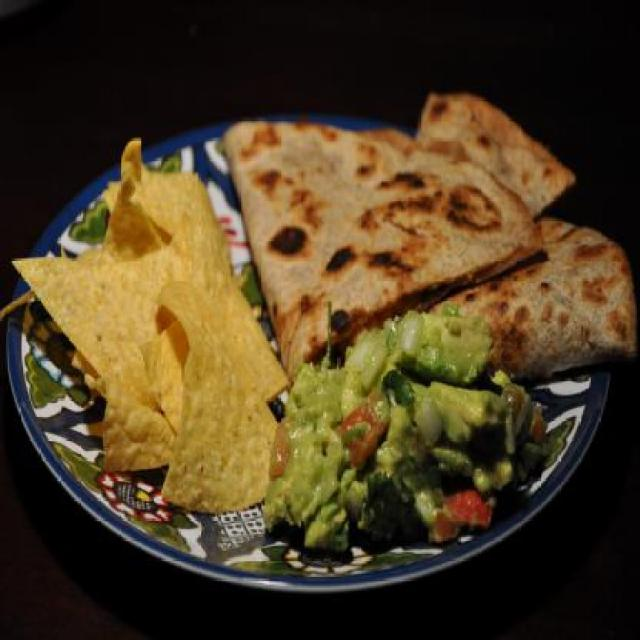chicken quesadilla: (224, 53, 638, 373)
guacamole: (265, 301, 557, 550)
nachos: (15, 132, 282, 512)
